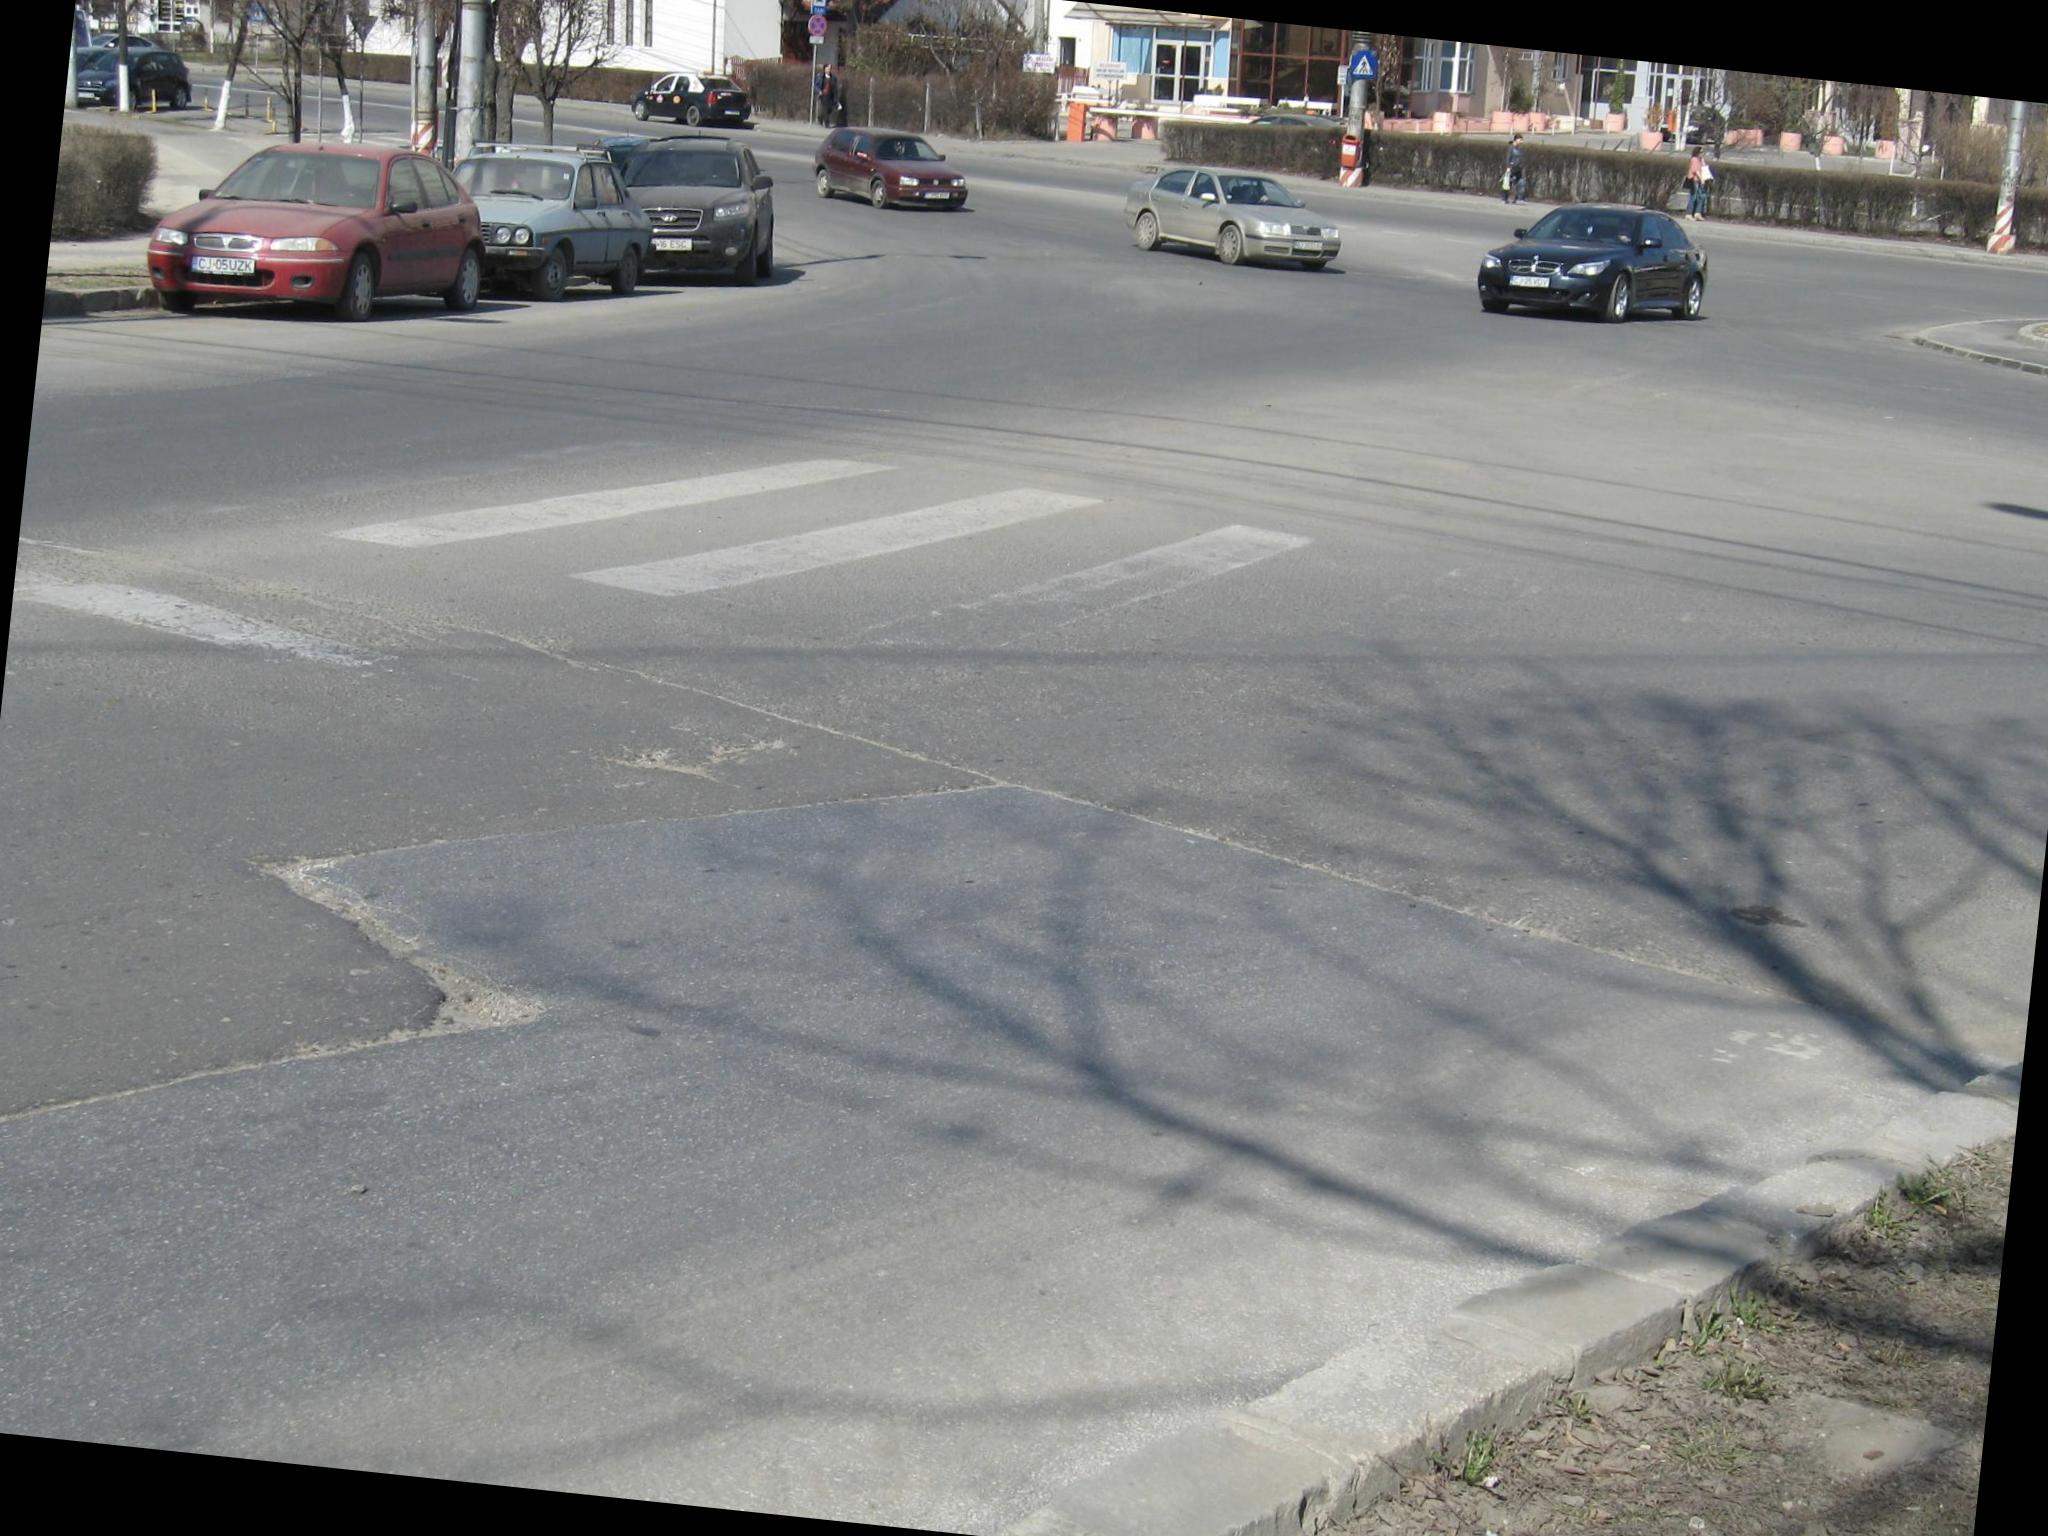faded_road_lines: (574, 487, 1100, 597), (337, 460, 856, 549), (11, 565, 373, 665), (971, 524, 1309, 607)
pothole: (34, 852, 543, 1107)
